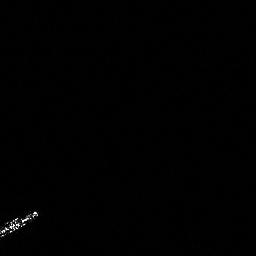ship: (1, 206, 43, 242)
